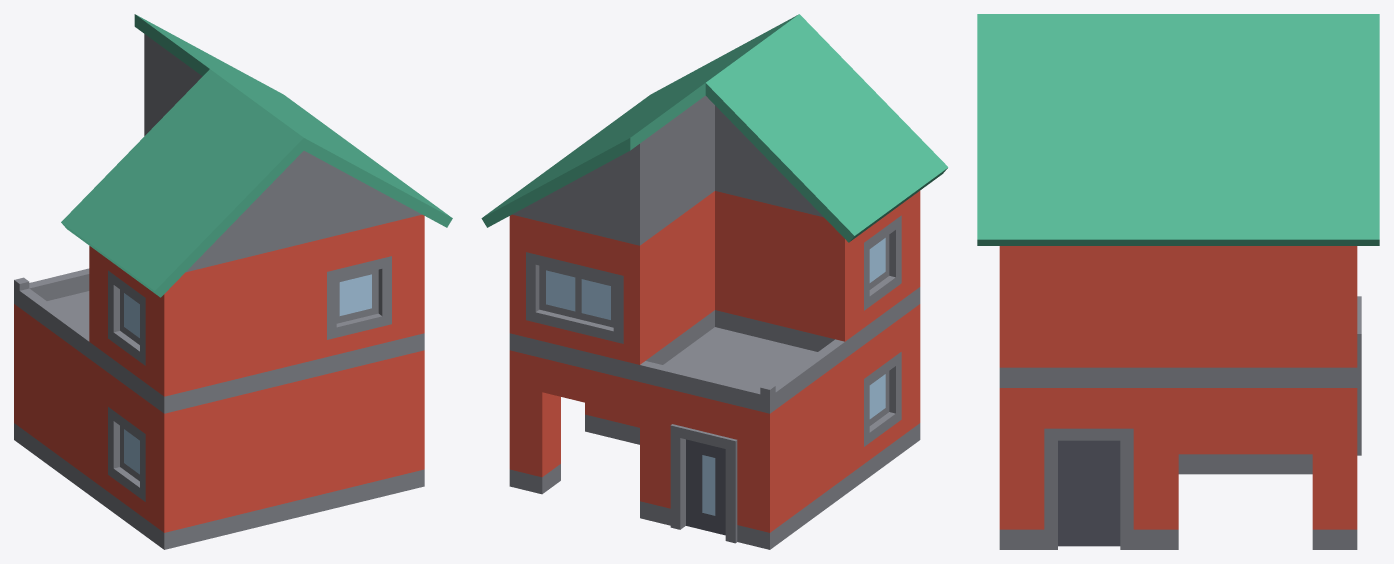
File: house_type16.fbx
3 views of the same model, side by side, from view 1: azimuth 30°, elevation 25°; view 2: azimuth 150°, elevation 25°; view 3: azimuth 270°, elevation 25° (orthographic). The views are drawn at different scales.
Parts seen in each view (by area): view 1: house_type16; view 2: house_type16; view 3: house_type16.
Boxes of the visible parts, left/top/right/bottom form: house_type16: left=14, top=14, right=452, bottom=549; house_type16: left=481, top=14, right=948, bottom=549; house_type16: left=977, top=14, right=1379, bottom=549.
Size of the model in its own units: 9.16 by 11.38 by 9.
